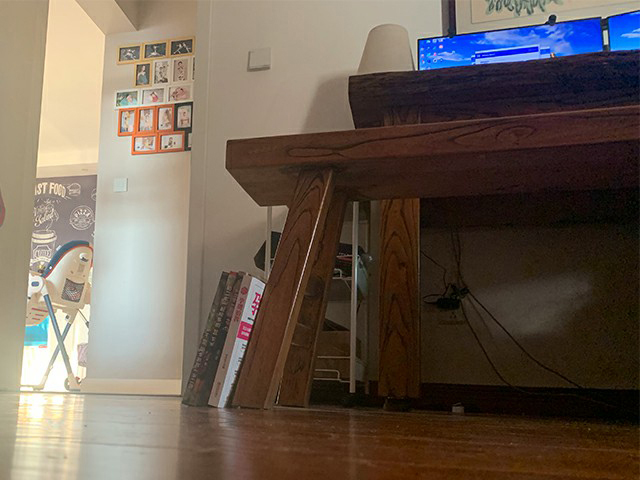book: (180, 270, 267, 408)
stool: (224, 103, 639, 409)
table: (348, 49, 640, 412)
wire: (422, 236, 634, 418)
